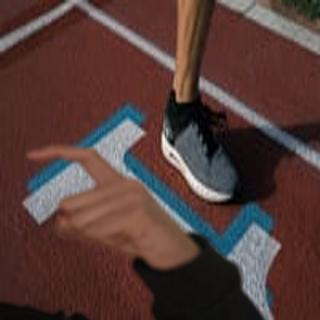WHY: (18, 133, 193, 264)
